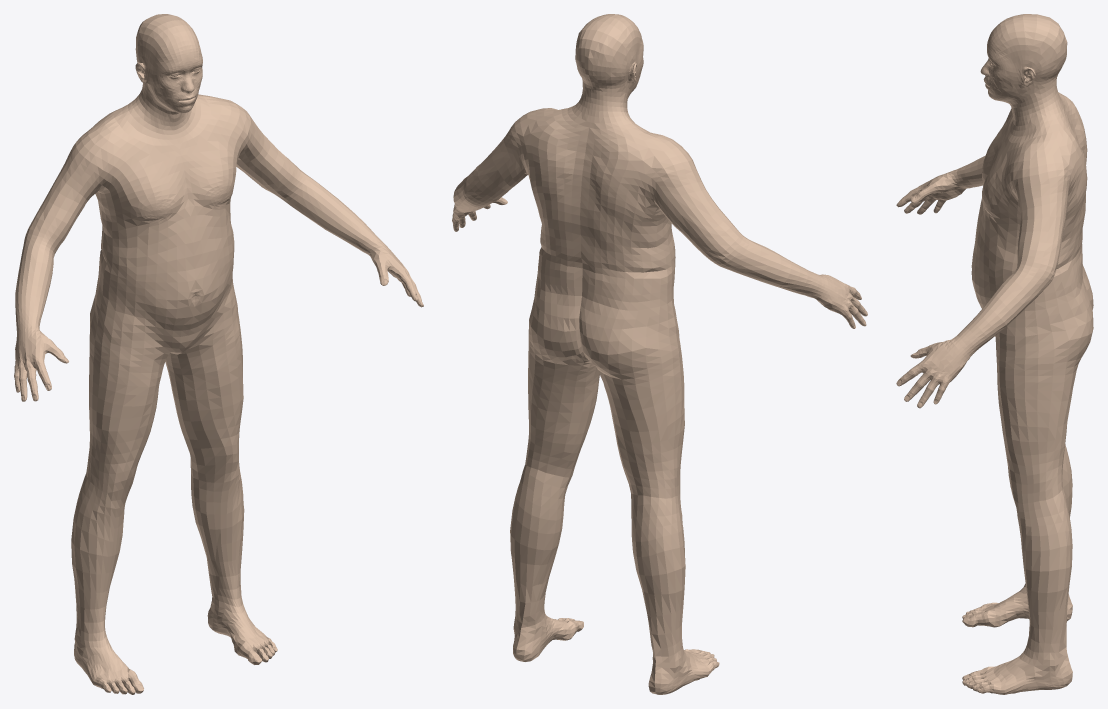
The model's file is male-adult-max-toned.glb.
3 views of the same model, side by side, from view 1: azimuth 30°, elevation 25°; view 2: azimuth 150°, elevation 25°; view 3: azimuth 270°, elevation 25° (orthographic).
Parts seen in each view (by area): view 1: world; view 2: world; view 3: world.
Part boxes in pixels (x1,y1,x2,y2): world: (14,14,423,694); world: (452,14,867,694); world: (896,14,1093,694).
Size of the model in its own units: 1.28 by 1.95 by 0.5455.
